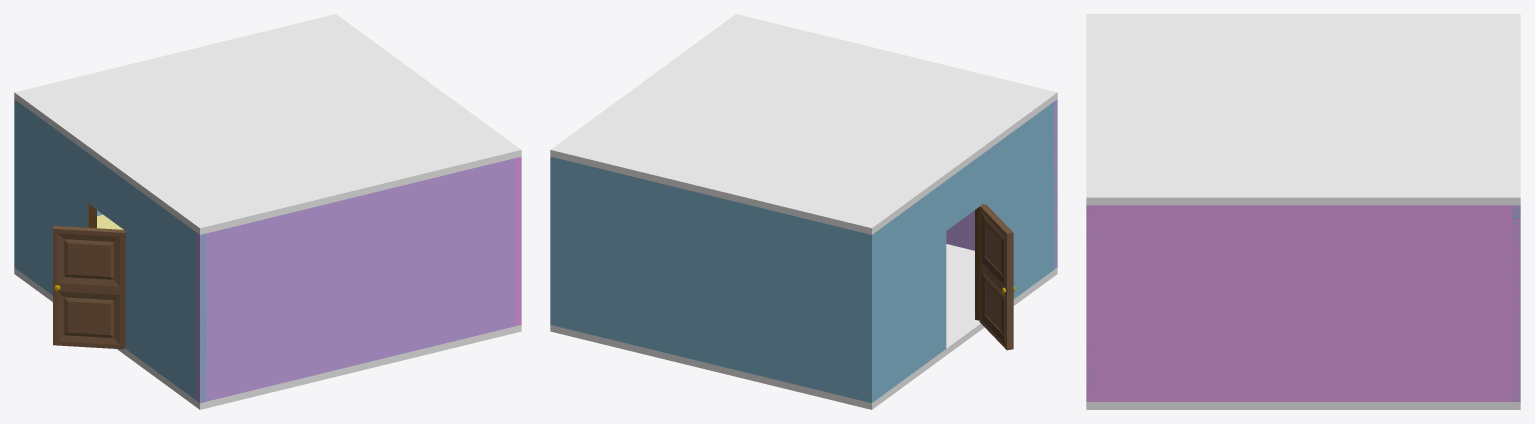
File: Room_3.glb
3 renders of one model, left to right at view 1: azimuth 30°, elevation 25°; view 2: azimuth 150°, elevation 25°; view 3: azimuth 270°, elevation 25°, orthographic. The views are drawn at different scales.
Parts seen in each view (by area): view 1: Room_3_Roof, Room_3_Wall_1, Room_3_Wall_2, Room_3_Door, Room_3_Floor, Room_3_Wall_3, Room_3_Wall_4; view 2: Room_3_Roof, Room_3_Wall_4, Room_3_Wall_2, Room_3_Floor, Room_3_Door, Room_3_Wall_1; view 3: Room_3_Wall_3, Room_3_Roof, Room_3_Floor, Room_3_Wall_1, Room_3_Wall_4.
Part boxes in pixels (x1=…): Room_3_Roof: x1=14, y1=14, x2=521, y2=234; Room_3_Wall_1: x1=196, y1=158, x2=514, y2=402; Room_3_Wall_2: x1=18, y1=102, x2=206, y2=402; Room_3_Door: x1=53, y1=225, x2=125, y2=349; Room_3_Floor: x1=14, y1=267, x2=521, y2=409; Room_3_Wall_3: x1=515, y1=156, x2=521, y2=326; Room_3_Wall_4: x1=14, y1=99, x2=102, y2=269; Room_3_Roof: x1=550, y1=14, x2=1057, y2=234; Room_3_Wall_4: x1=550, y1=156, x2=875, y2=402; Room_3_Wall_2: x1=875, y1=102, x2=1056, y2=399; Room_3_Floor: x1=550, y1=244, x2=1057, y2=409; Room_3_Door: x1=979, y1=204, x2=1015, y2=350; Room_3_Wall_1: x1=946, y1=99, x2=1057, y2=269; Room_3_Wall_3: x1=1086, y1=205, x2=1520, y2=401; Room_3_Roof: x1=1086, y1=14, x2=1520, y2=205; Room_3_Floor: x1=1086, y1=402, x2=1520, y2=409; Room_3_Wall_1: x1=1086, y1=205, x2=1094, y2=401; Room_3_Wall_4: x1=1512, y1=205, x2=1520, y2=401.
Size of the model in its own units: 5.8 by 2.7 by 5.
4 materials, 2 textured.
